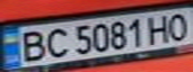0: (90, 20, 112, 53)
1: (124, 16, 148, 47)
5: (69, 21, 93, 55)
8: (109, 17, 130, 51)
B: (12, 28, 51, 63)
C: (39, 25, 72, 60)
H: (145, 12, 175, 44)
O: (163, 10, 190, 42)
